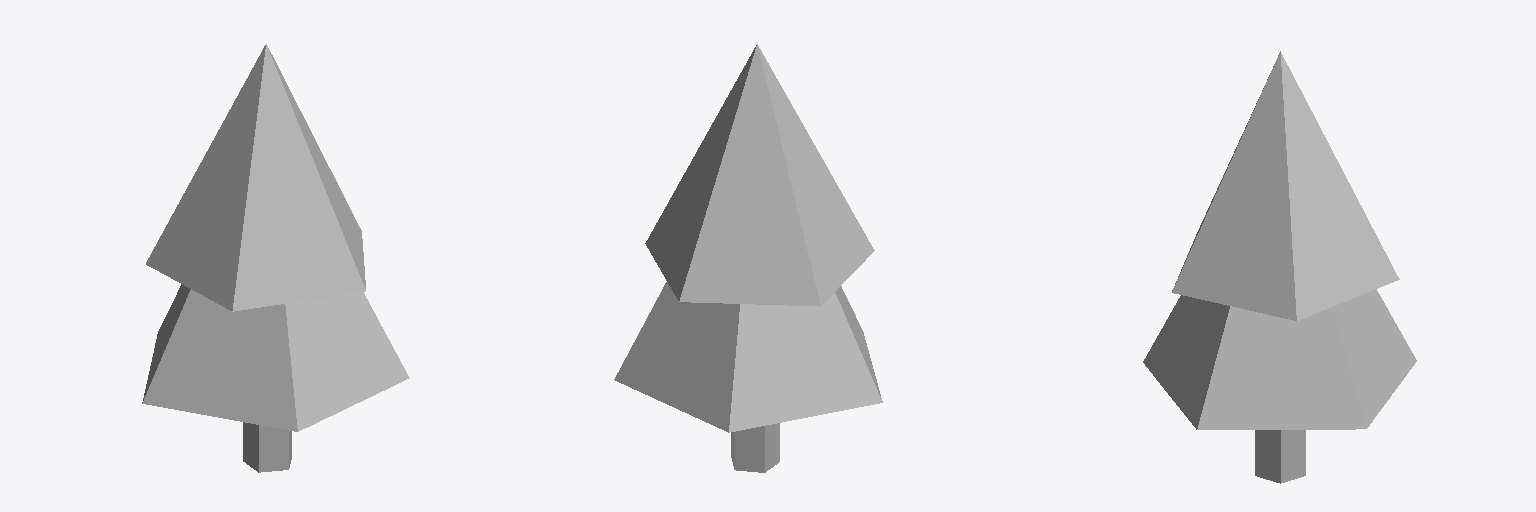
File: debugtree.obj
3 views of the same model, side by side, from view 1: azimuth 30°, elevation 25°; view 2: azimuth 150°, elevation 25°; view 3: azimuth 270°, elevation 25° (orthographic).
Size of the model in its own units: 0.4164 by 0.7304 by 0.4324.